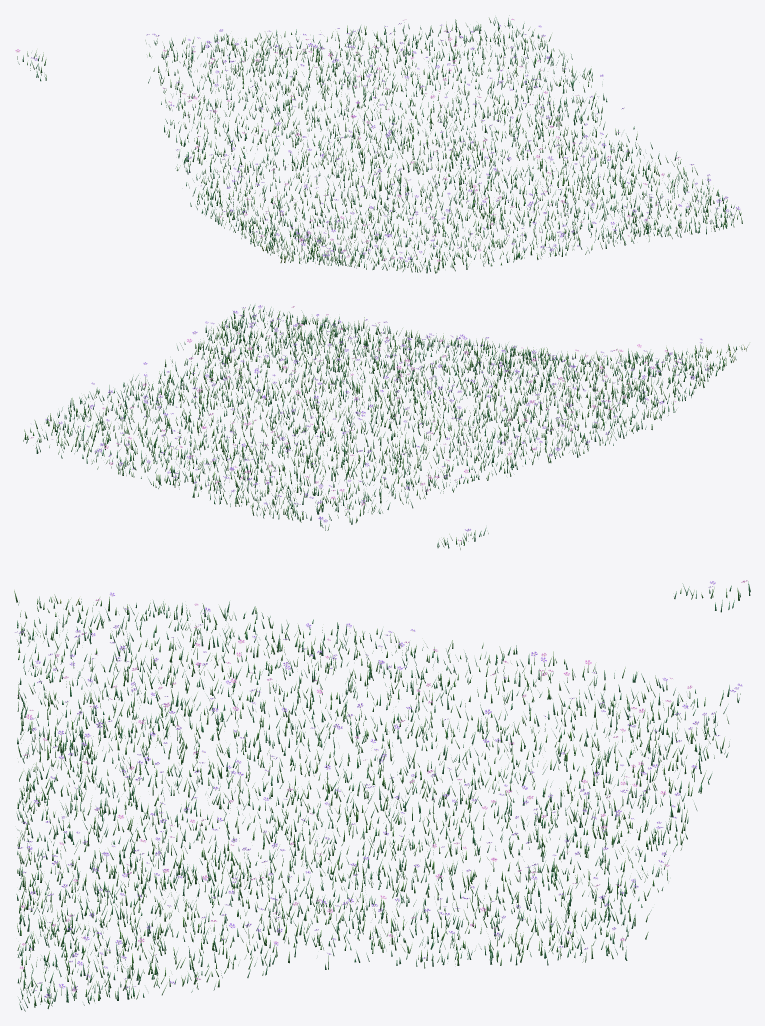
3 renders of one model, top to bottom at view 1: azimuth 30°, elevation 25°; view 2: azimuth 150°, elevation 25°; view 3: azimuth 270°, elevation 25°, orthographic. The views are drawn at different scales.
Parts seen in each view (by area): view 1: gc_10; view 2: gc_10; view 3: gc_10.
Part boxes in pixels (x1,y1,x2,y2): gc_10: [15, 15, 742, 273]; gc_10: [23, 304, 748, 549]; gc_10: [14, 580, 750, 1011].
Bounding box in the file's own units: 18.18 × 3.37 × 18.08.
Materials: 1 (1 with a texture image).
